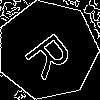R: (22, 25, 82, 81)
